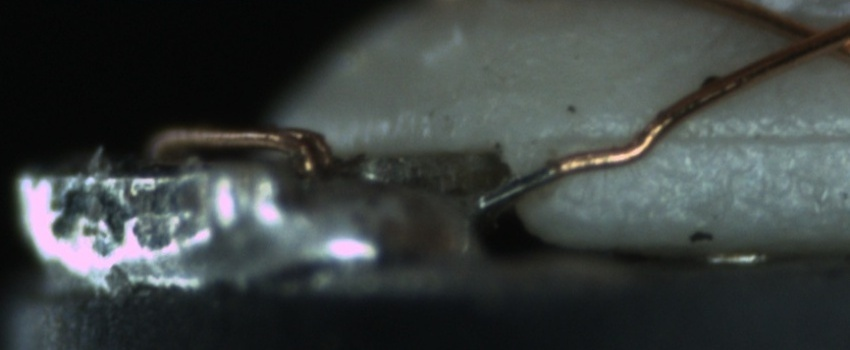CL: (771, 8, 850, 64)
DL: (556, 107, 849, 170)
TE: (145, 117, 344, 188)
TS: (474, 163, 561, 207)
